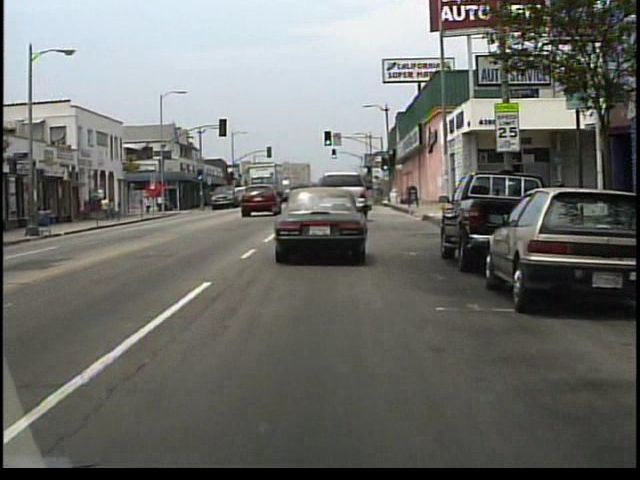person: (102, 196, 112, 222), (108, 198, 115, 221), (144, 196, 152, 216)
